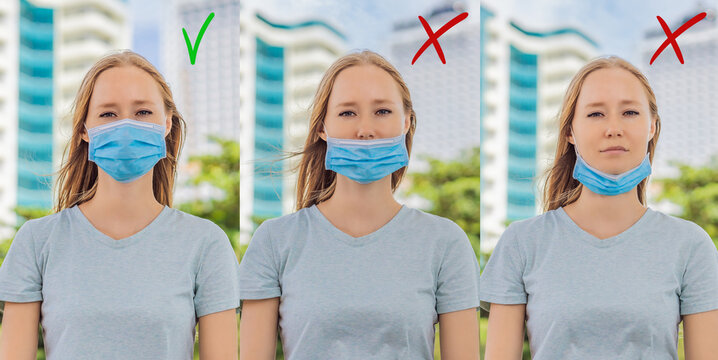mask_weared_incorrect: (563, 65, 661, 193), (323, 70, 410, 183)
with_mask: (86, 69, 170, 177)
